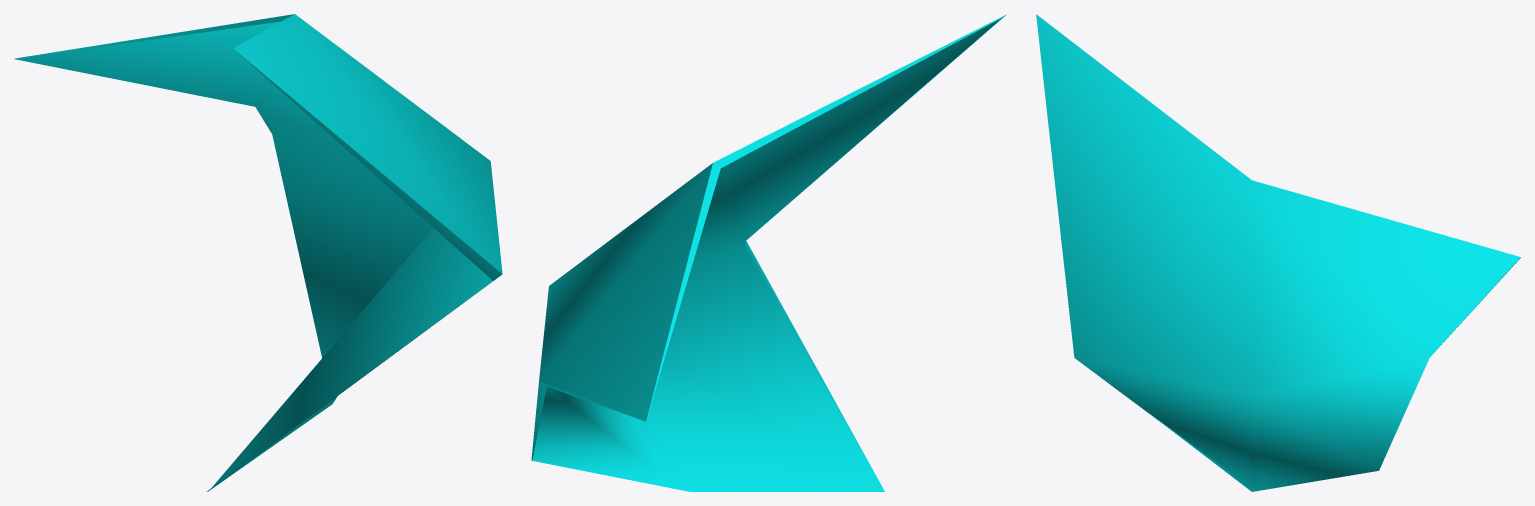
Rendered from Plastic piece.fbx.
3 views of the same model, side by side, from view 1: azimuth 30°, elevation 25°; view 2: azimuth 150°, elevation 25°; view 3: azimuth 270°, elevation 25° (orthographic). The views are drawn at different scales.
Visible parts, largest first — view 1: pCube1; view 2: pCube1; view 3: pCube1.
Part boxes in pixels (<box>): pCube1: <box>14,14,502,491</box>; pCube1: <box>531,14,1006,491</box>; pCube1: <box>1036,14,1520,491</box>.
Bounding box in the file's own units: 0.976 × 1.21 × 1.36.
